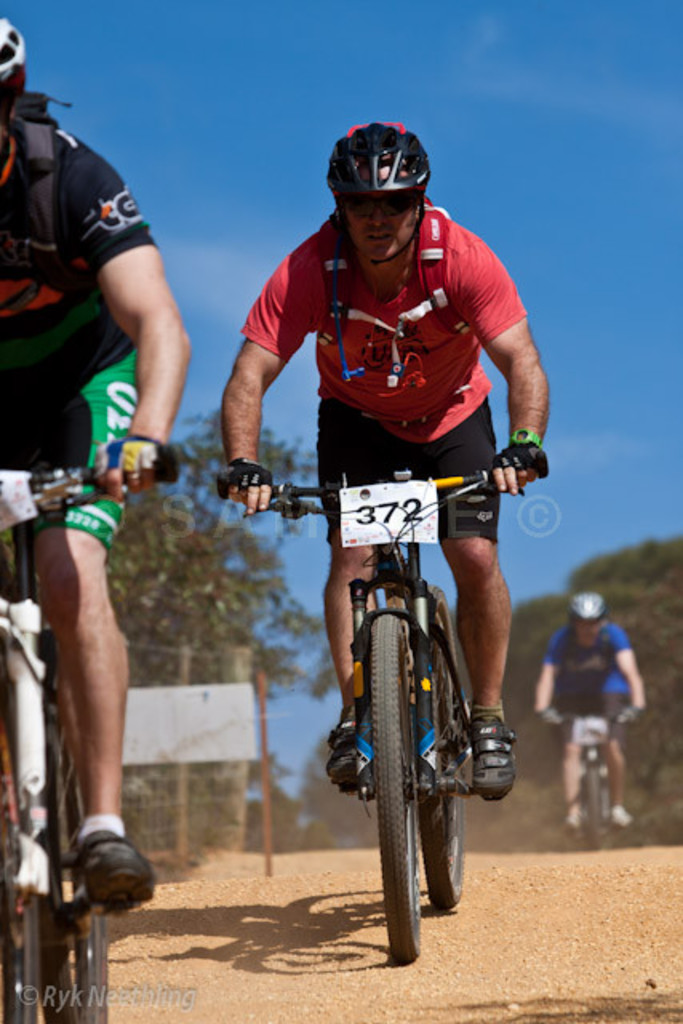Bike: (222, 453, 510, 981)
